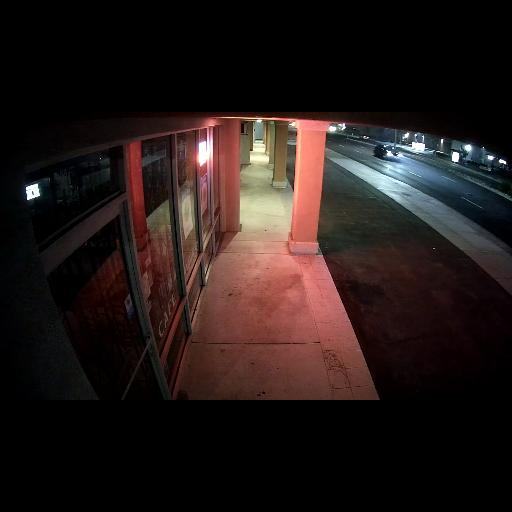car: (372, 142, 404, 163)
